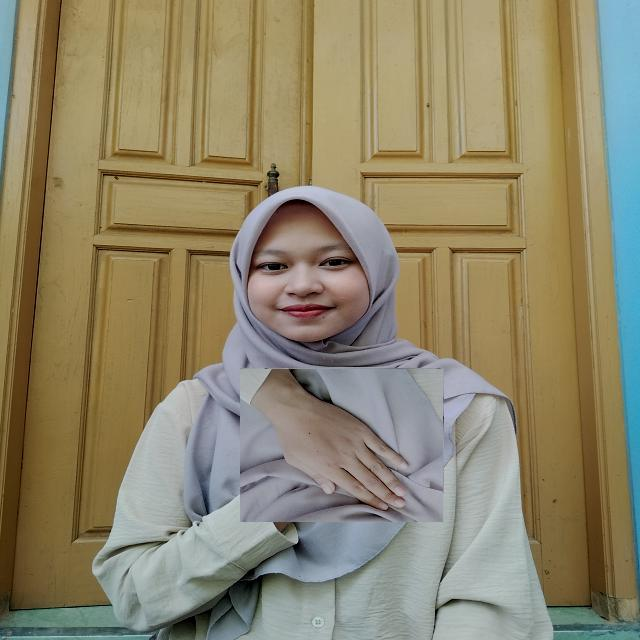tolong: (240, 368, 444, 522)
